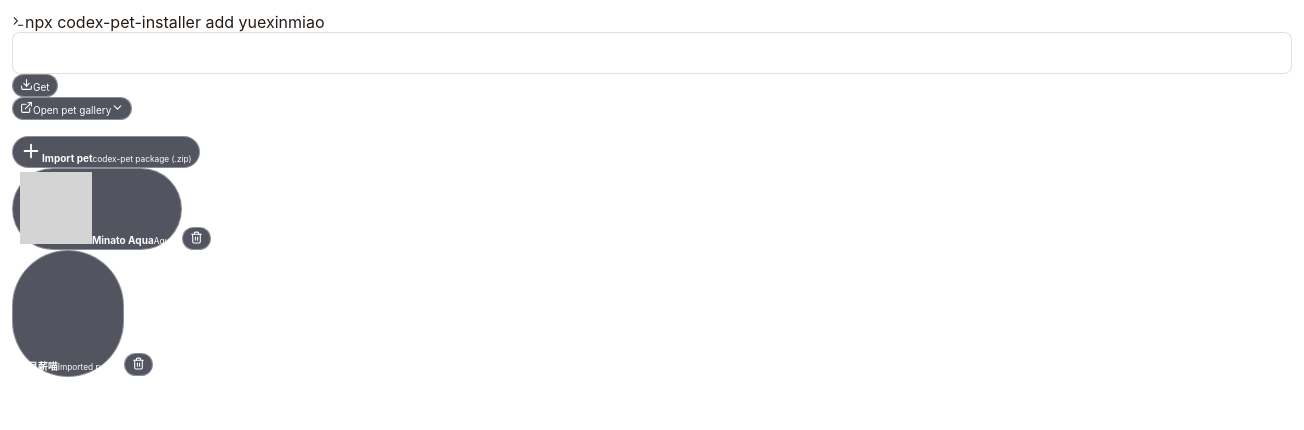
it: PetThemeGrid removal › disarms when the control loses focus or Escape is pressed
The image size is (1304, 430).
Click the 2nd button named "Remove" at point(138, 364), box [124, 353, 153, 376]
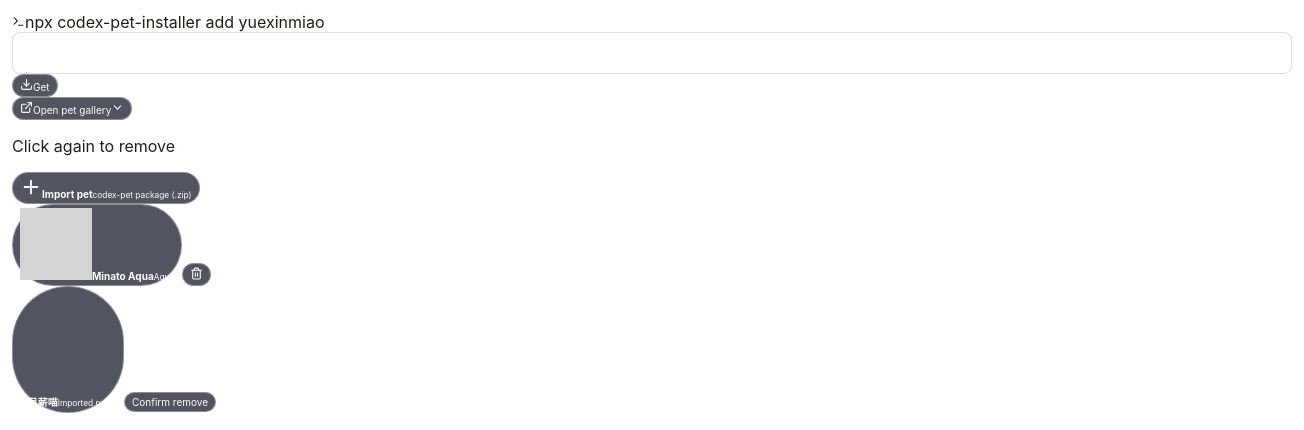
Leave the button "Confirm remove", box [124, 392, 216, 412]
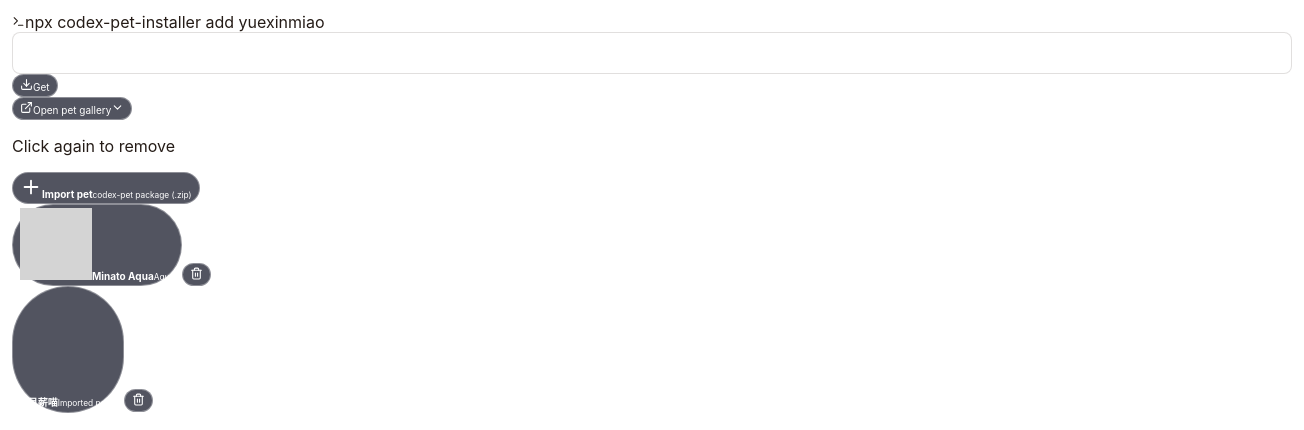
Now the text "Confirm remove" is gone
Click the 2nd button named "Remove" at point(138, 400), box [124, 389, 153, 412]
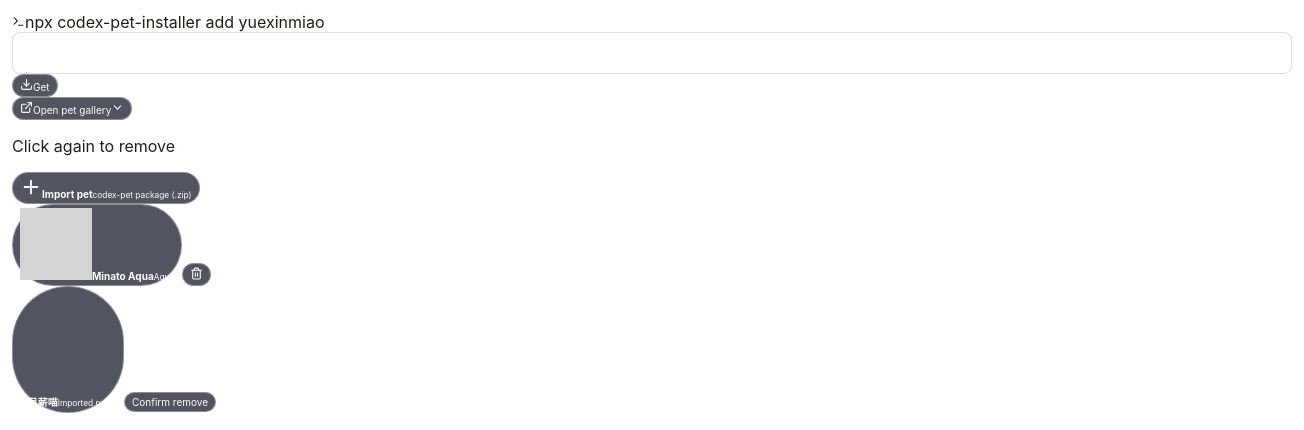
Press Escape in the button "Confirm remove", box [124, 392, 216, 412]
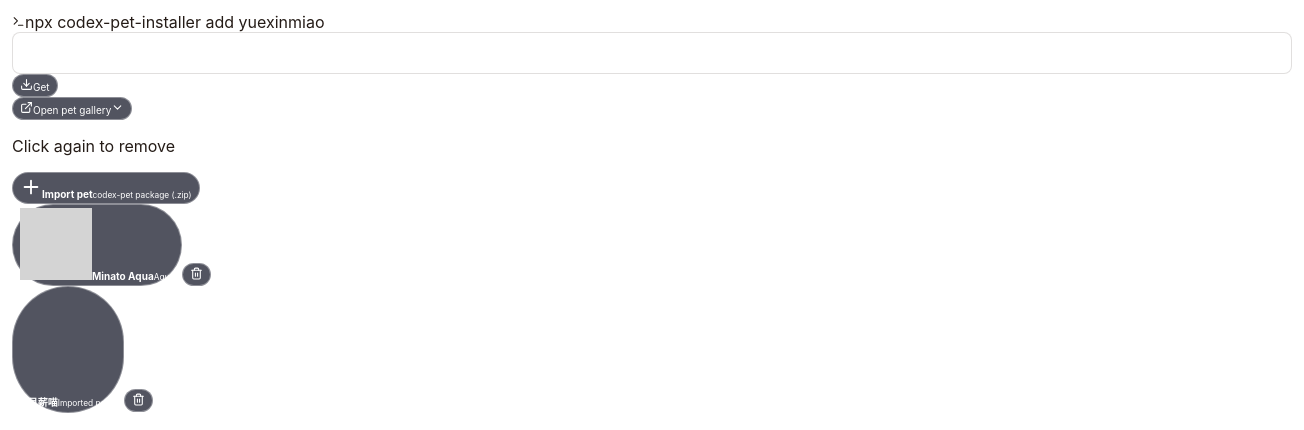
Now the text "Confirm remove" is gone
